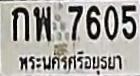0: (103, 5, 118, 39)
5: (121, 4, 136, 39)
6: (85, 5, 100, 39)
7: (67, 5, 83, 40)
A01: (12, 6, 29, 41)
A30: (34, 5, 51, 41)
AYA: (17, 50, 122, 74)
